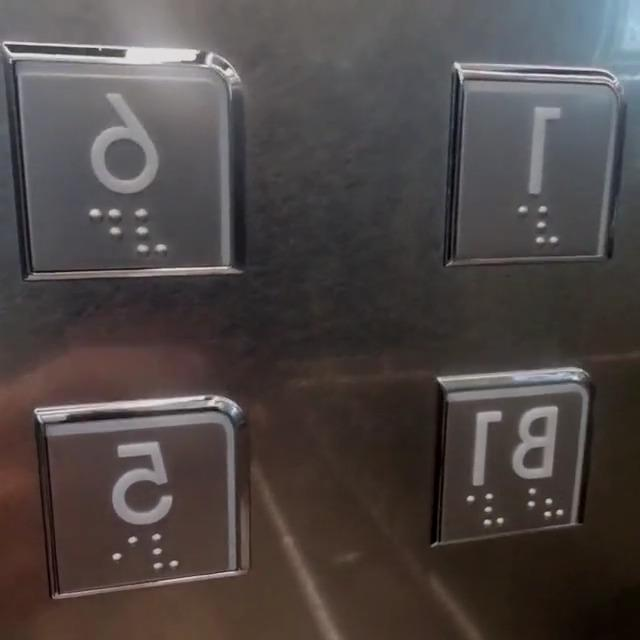button: (17, 56, 234, 283), (61, 399, 238, 604), (454, 72, 627, 275), (425, 372, 591, 532)
